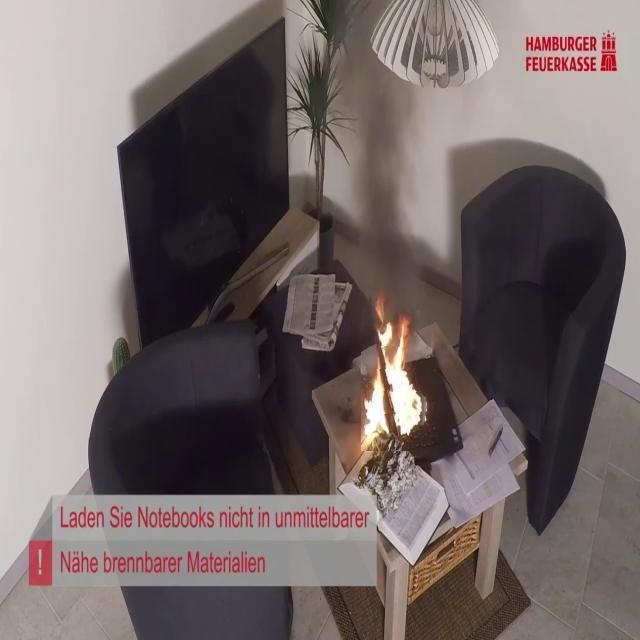fire: (330, 0, 433, 289)
smoke: (361, 289, 431, 451)
